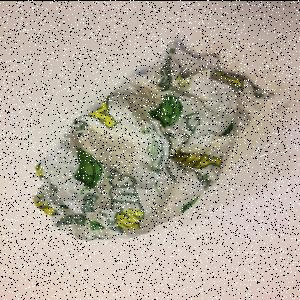Trash: (30, 41, 276, 241)
